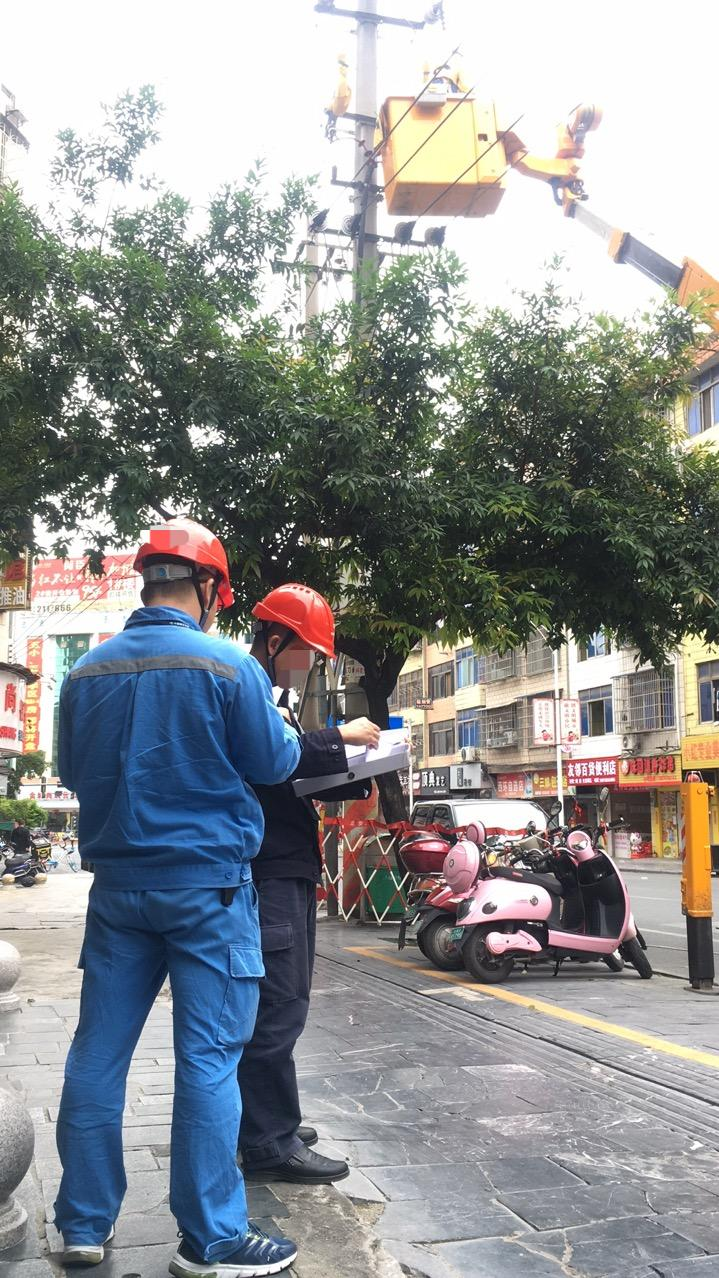halt: (133, 524, 238, 621), (251, 586, 340, 688)
inear: (192, 573, 223, 616), (265, 630, 295, 665)
